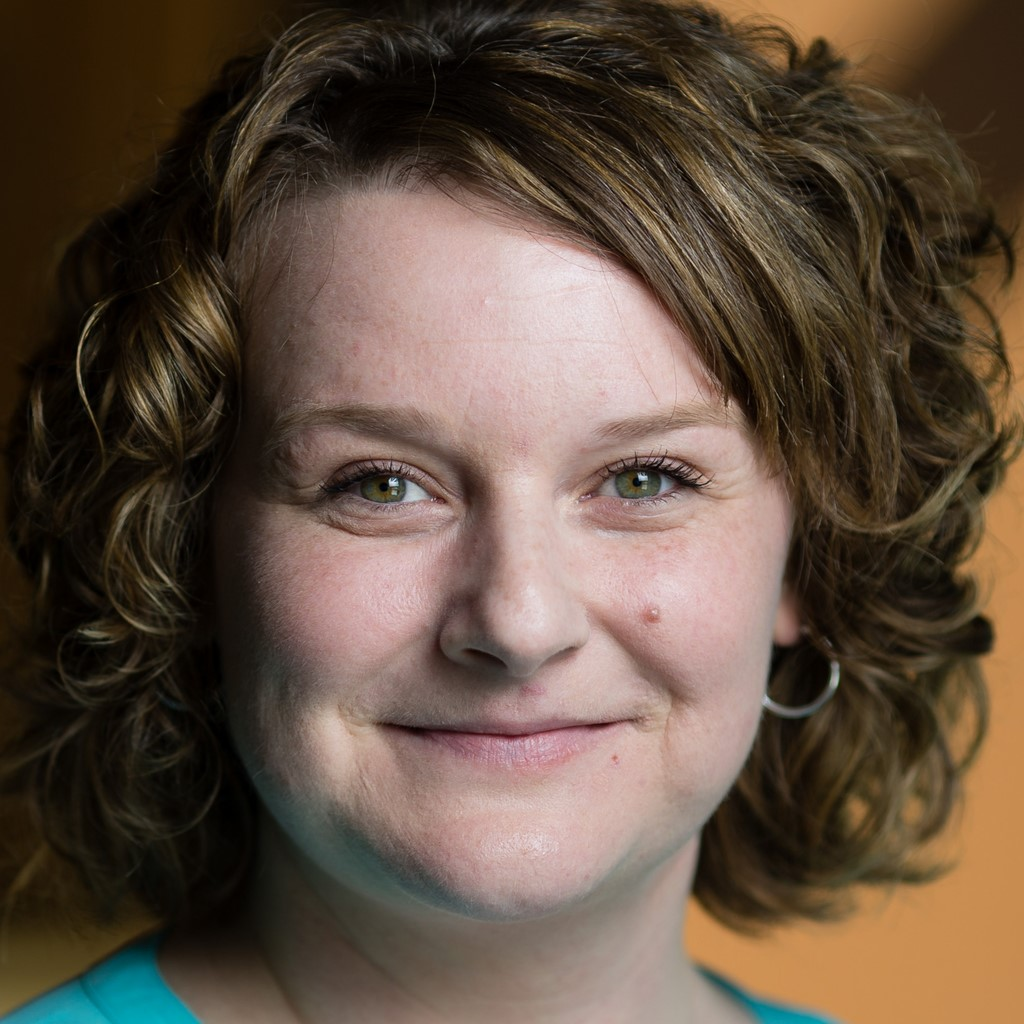sin_mascara: (240, 135, 802, 916)
